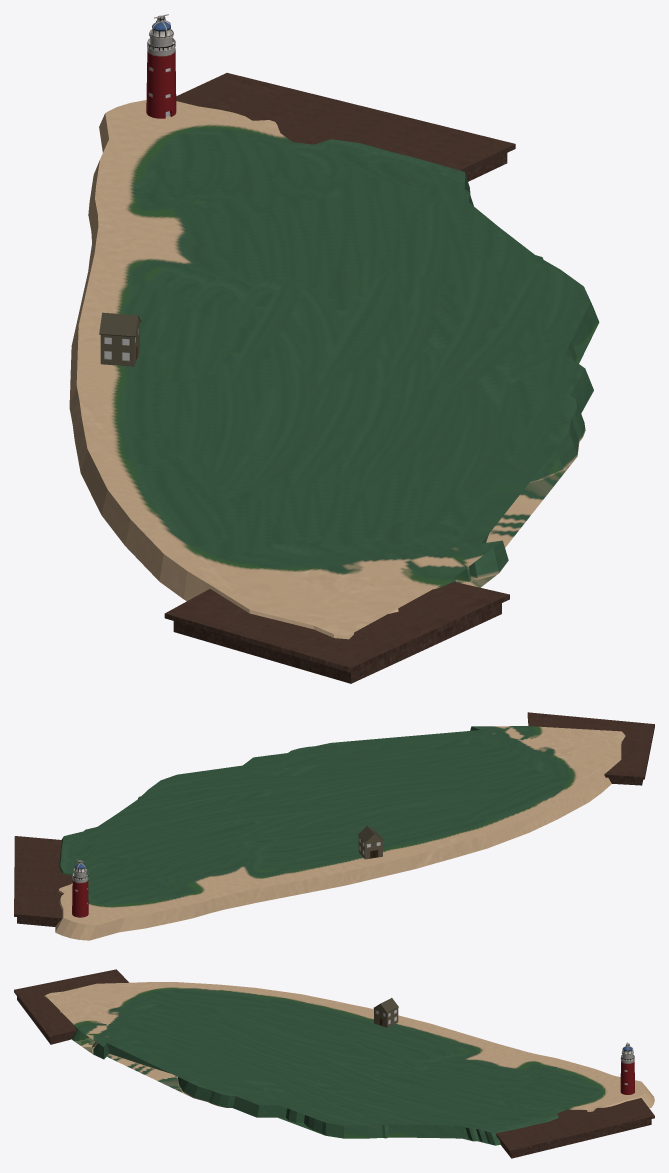
The model's file is Texel.fbx.
The picture shows the model from 3 angles, top to bottom: view 1: azimuth 30°, elevation 25°; view 2: azimuth 150°, elevation 25°; view 3: azimuth 270°, elevation 25°; orthographic projection. The views are drawn at different scales.
Visible parts, largest first — view 1: Texel_Model, Dok_1, Dok_2, Vuurtoren_Eierland1, Huisje_De_Koog; view 2: Texel_Model, Dok_2, Dok_1, Vuurtoren_Eierland1, Huisje_De_Koog; view 3: Texel_Model, Dok_2, Dok_1, Vuurtoren_Eierland1, Huisje_De_Koog.
Boxes of the visible parts, left/top/right/bottom form: Texel_Model: left=69, top=100, right=599, bottom=639; Dok_1: left=164, top=581, right=509, bottom=683; Dok_2: left=176, top=73, right=515, bottom=181; Vuurtoren_Eierland1: left=146, top=14, right=176, bottom=118; Huisje_De_Koog: left=99, top=312, right=141, bottom=366; Texel_Model: left=55, top=726, right=625, bottom=940; Dok_2: left=14, top=836, right=72, bottom=926; Dok_1: left=527, top=712, right=654, bottom=785; Vuurtoren_Eierland1: left=72, top=859, right=88, bottom=917; Huisje_De_Koog: left=358, top=826, right=383, bottom=859; Texel_Model: left=44, top=982, right=654, bottom=1145; Dok_2: left=496, top=1098, right=654, bottom=1158; Dok_1: left=14, top=969, right=128, bottom=1044; Vuurtoren_Eierland1: left=620, top=1042, right=634, bottom=1094; Huisje_De_Koog: left=373, top=998, right=398, bottom=1027.
Size of the model in its own units: 139 by 21.14 by 208.
4 materials, 4 textured.
